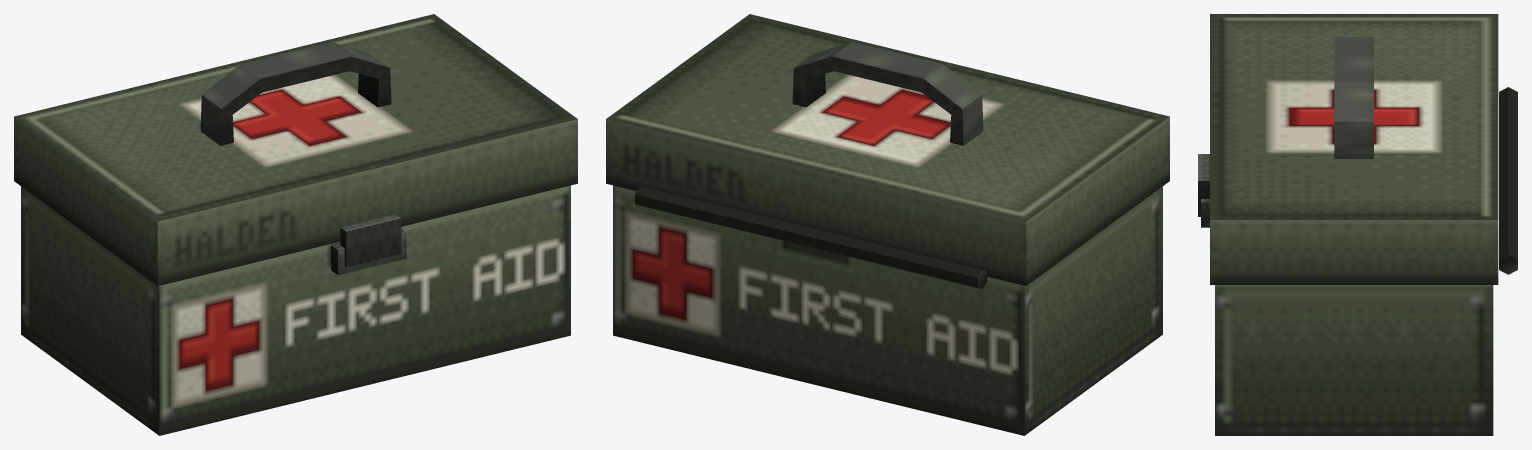
File: SM_Medkit_PSX.fbx
3 renders of one model, left to right at view 1: azimuth 30°, elevation 25°; view 2: azimuth 150°, elevation 25°; view 3: azimuth 270°, elevation 25°, orthographic.
Visible parts, largest first — view 1: SM_Medkit_Lid, SM_Medkit_Body, SM_Medkit_Hasp; view 2: SM_Medkit_Lid, SM_Medkit_Body; view 3: SM_Medkit_Lid, SM_Medkit_Body, SM_Medkit_Hasp.
Part boxes in pixels (left/top/right/bottom): SM_Medkit_Lid: left=14, top=14, right=577, bottom=285; SM_Medkit_Body: left=21, top=185, right=570, bottom=435; SM_Medkit_Hasp: left=340, top=214, right=401, bottom=267; SM_Medkit_Lid: left=606, top=14, right=1169, bottom=285; SM_Medkit_Body: left=613, top=185, right=1162, bottom=435; SM_Medkit_Lid: left=1210, top=14, right=1498, bottom=284; SM_Medkit_Body: left=1201, top=87, right=1517, bottom=435; SM_Medkit_Hasp: left=1198, top=154, right=1209, bottom=216.
Size of the model in its own units: 24.5 by 15.3 by 16.08.
1 material, 1 textured.
